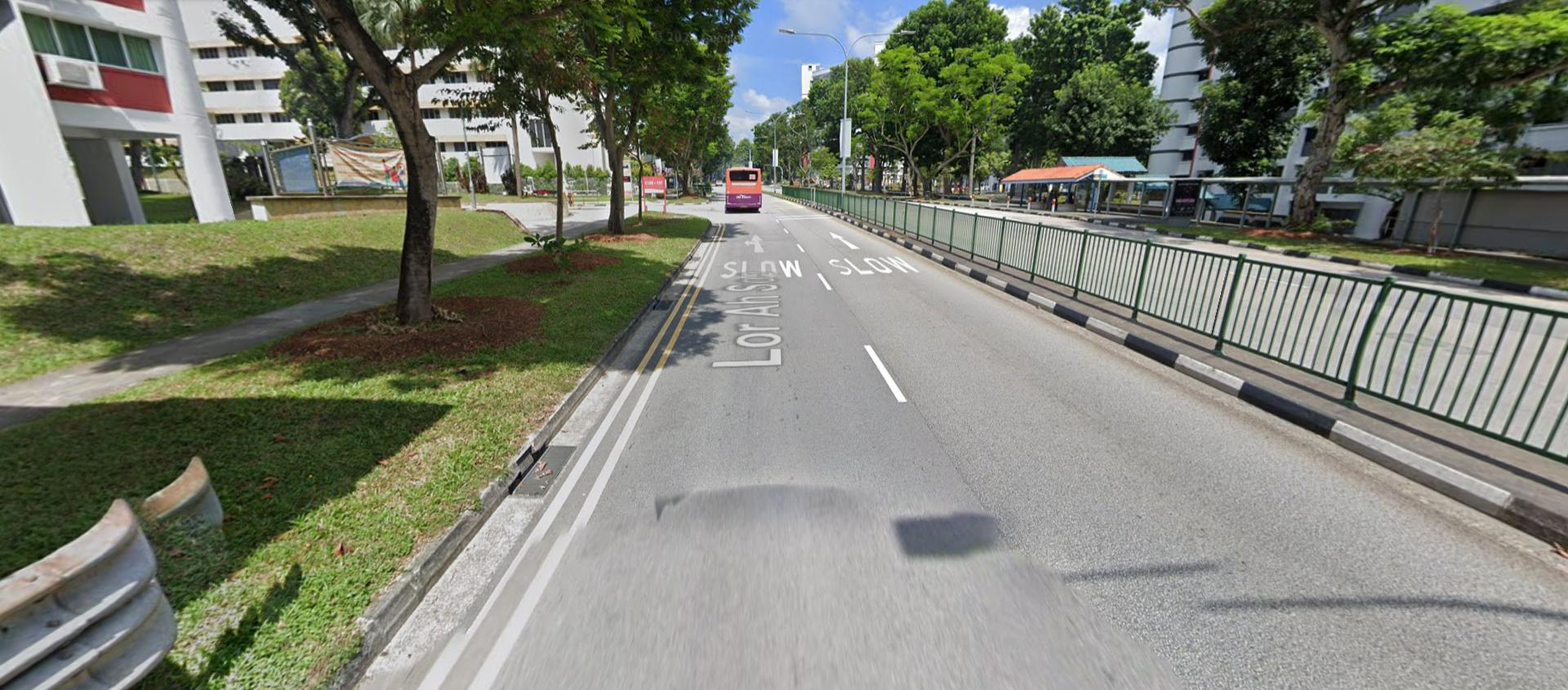normal: (509, 443, 580, 501)
